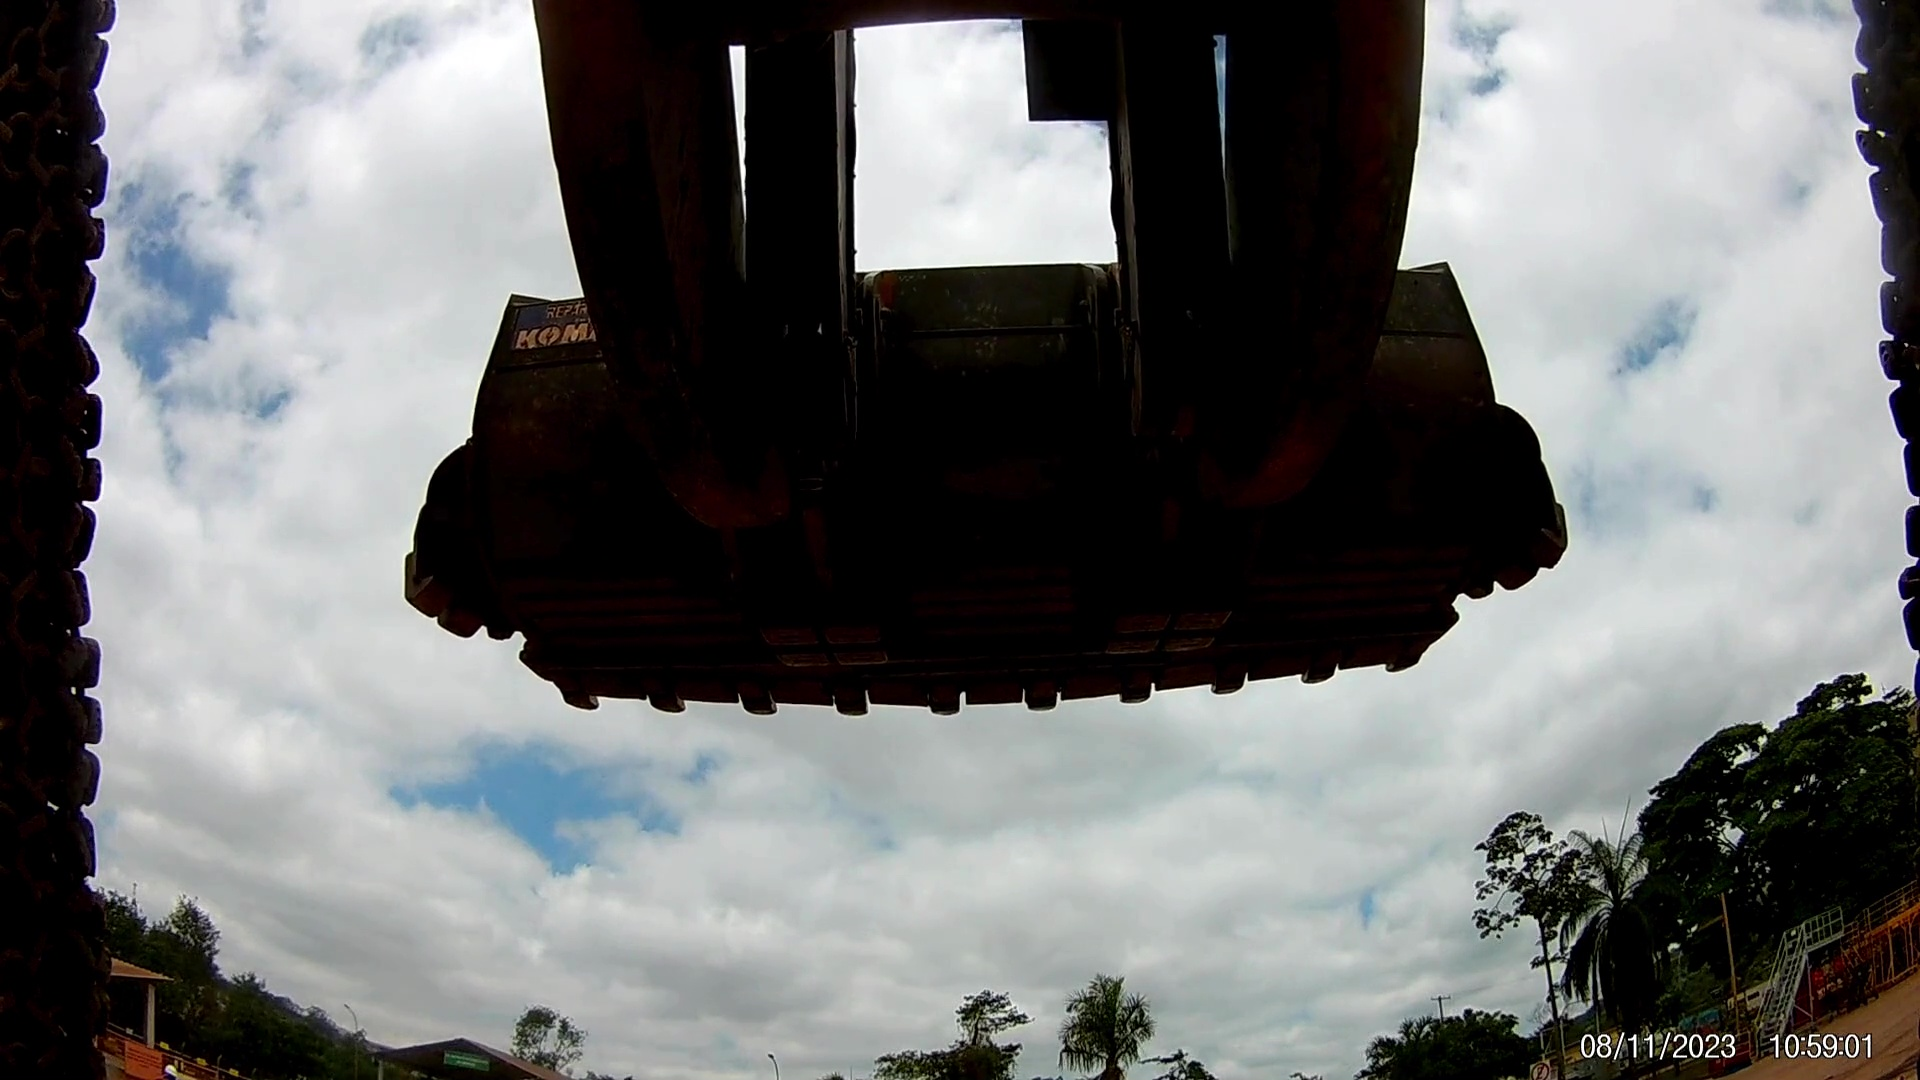FPS: (535, 673, 616, 729), (825, 673, 887, 735), (647, 669, 699, 731), (924, 662, 971, 729), (1023, 659, 1069, 724), (732, 679, 794, 724), (1294, 647, 1344, 703), (1112, 659, 1158, 719), (1382, 641, 1425, 698), (1218, 659, 1258, 717)
